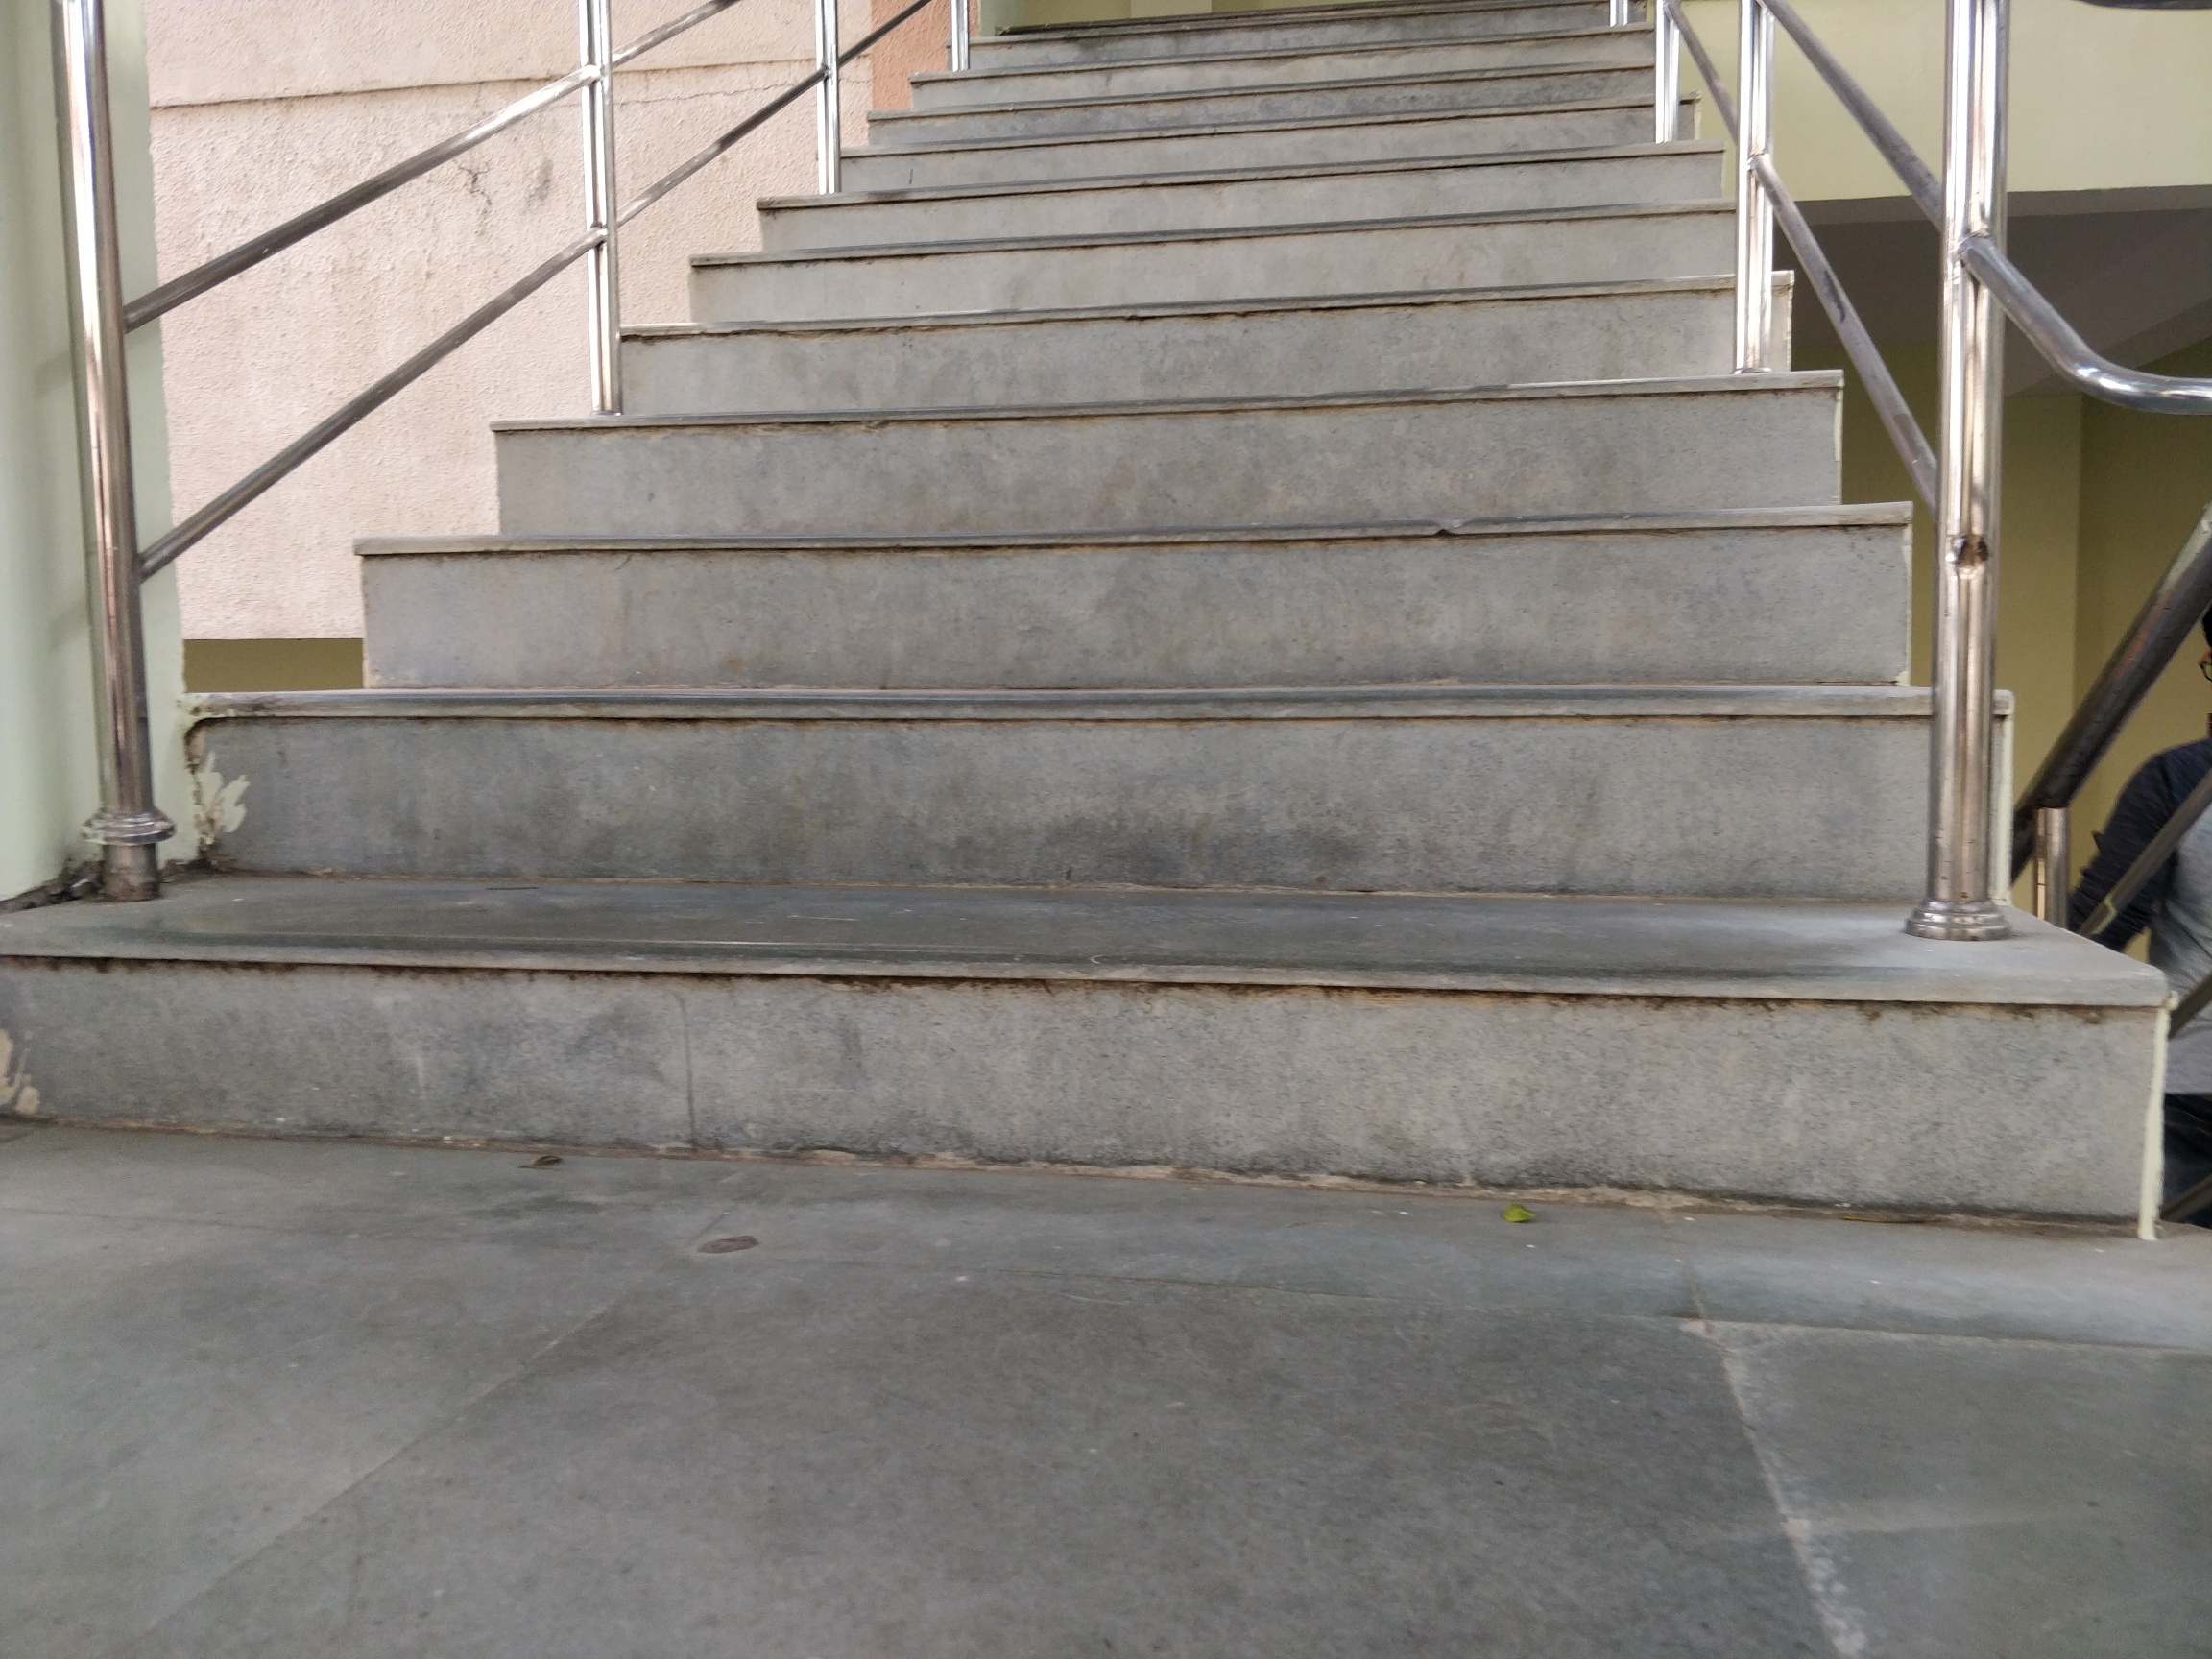stairs_up: (131, 12, 1919, 1202)
